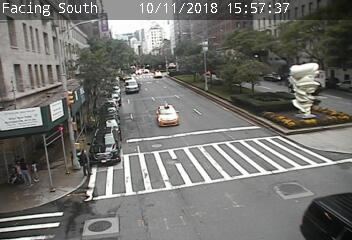car: (156, 105, 178, 126), (125, 80, 138, 93), (153, 72, 161, 79)
